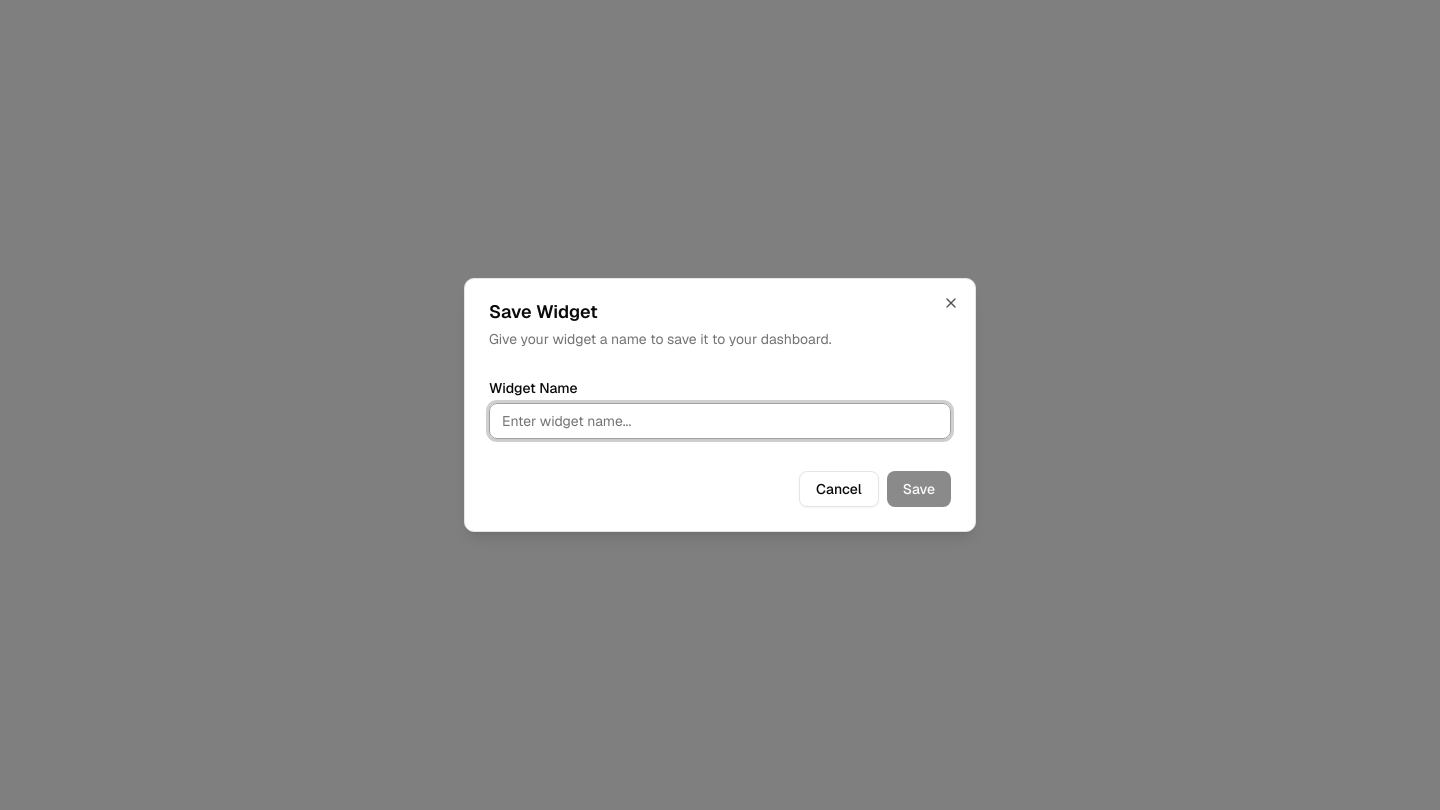
Test: SaveWidgetModal › enables save button when name is entered
This screenshot has width=1440, height=810.
Type "My Widget" into the field with placeholder "Enter widget name..." at (720, 421), box x1=489 y1=403 x2=951 y2=439
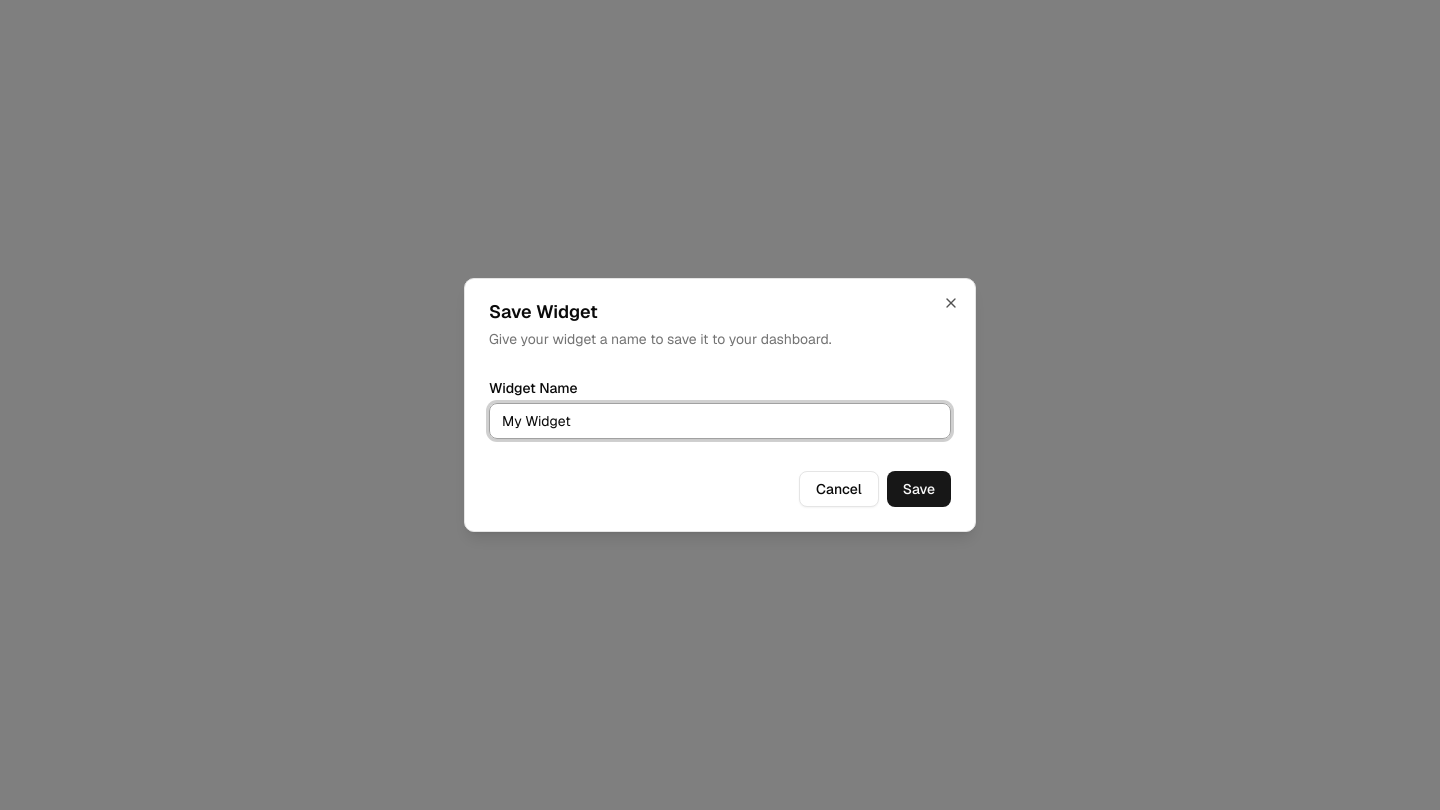
Expected: the button "Save" is enabled, x1=887 y1=471 x2=951 y2=507
